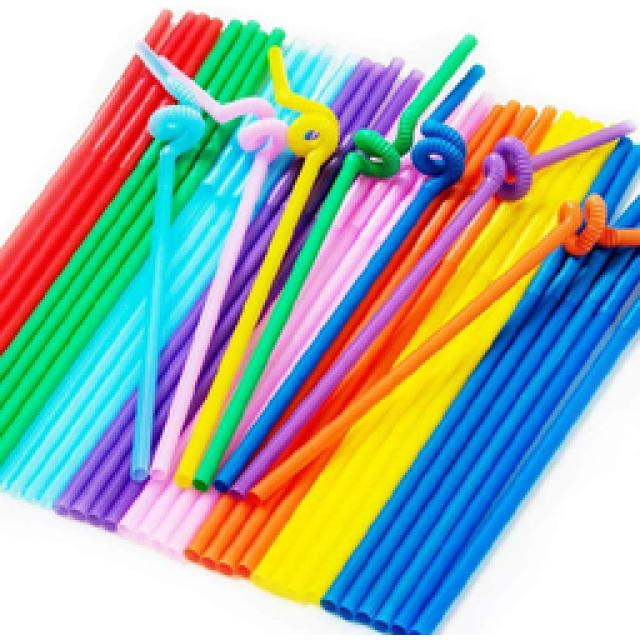plastic: (0, 10, 638, 630)
